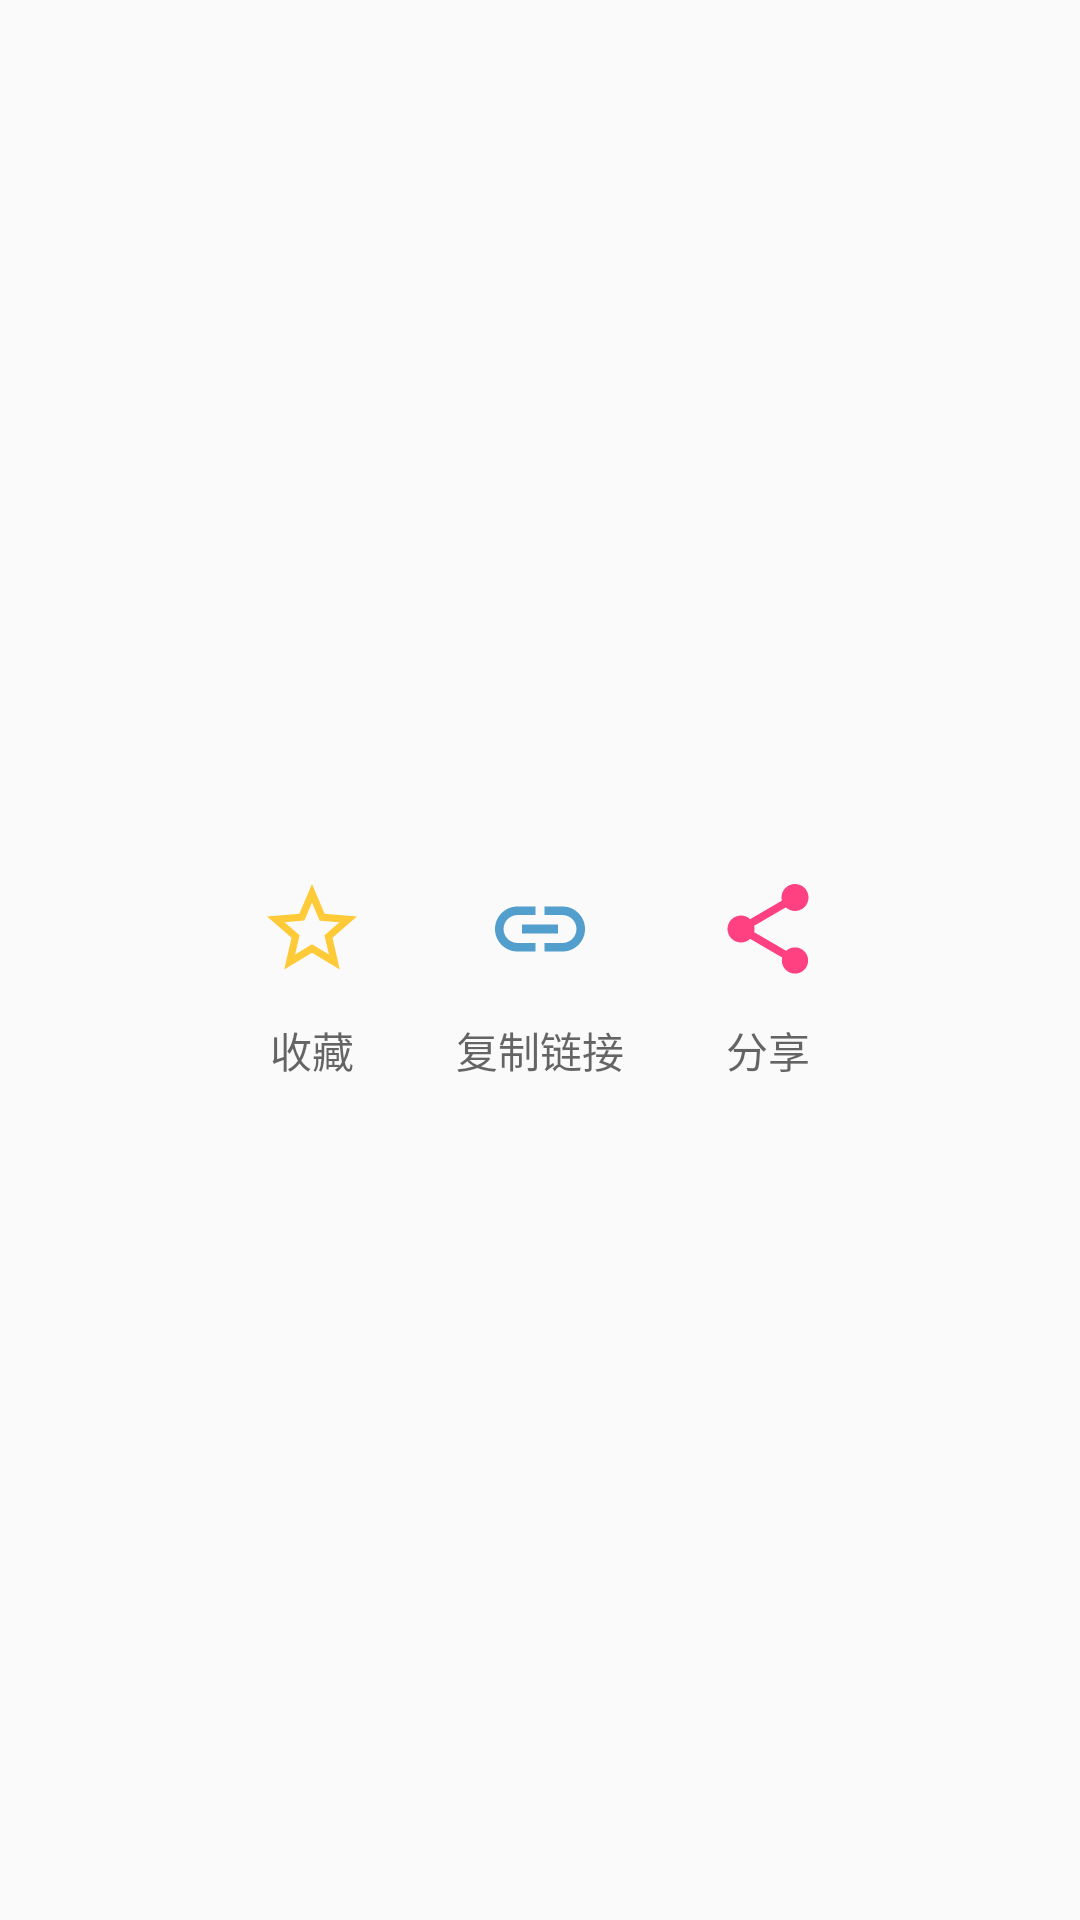

Named icons in this screenshot (1080x1920) and their centers, (x=x, y=y):
insert link: (x=540, y=929)
share: (x=768, y=929)
star not: (x=312, y=927)
